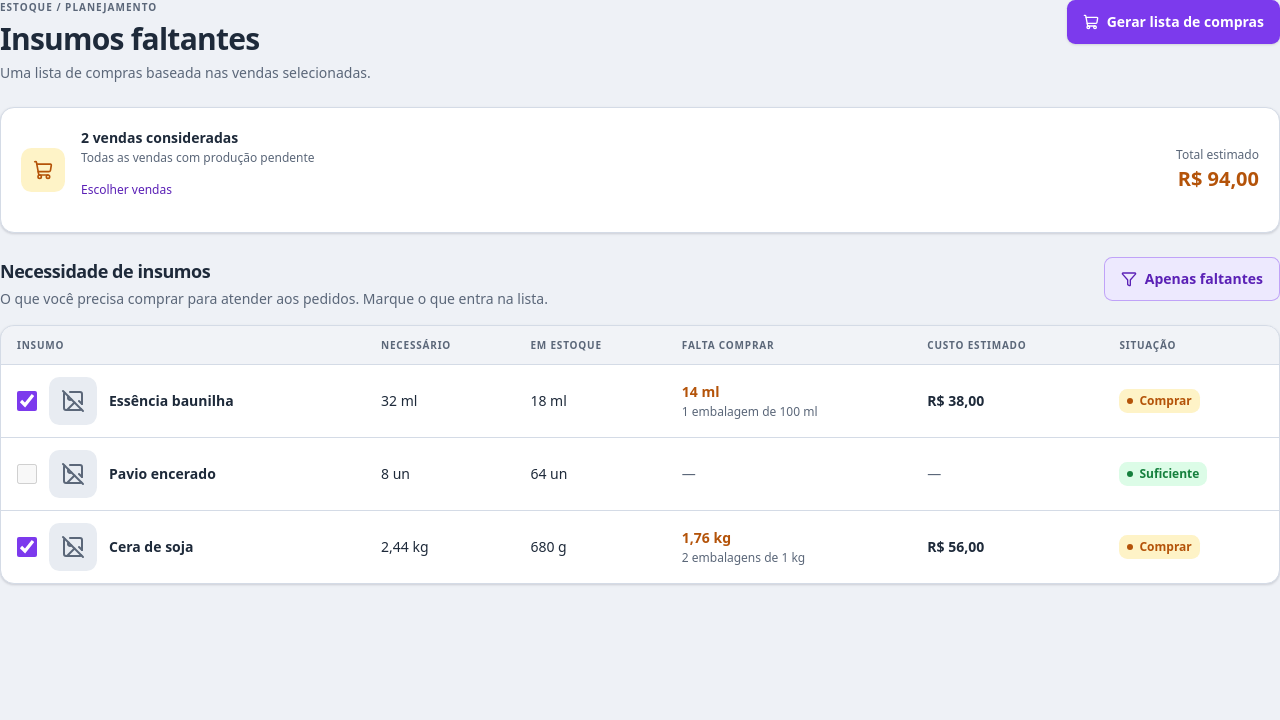
Test: the sales the list is built from › does not let the person use no sale at all
The width and height of the screenshot is (1280, 720).
Check: the table named "Necessidade de insumos" is shown, box [1,326,1279,583]
Click the button "Escolher vendas" at (126, 190), box [69,168,184,212]
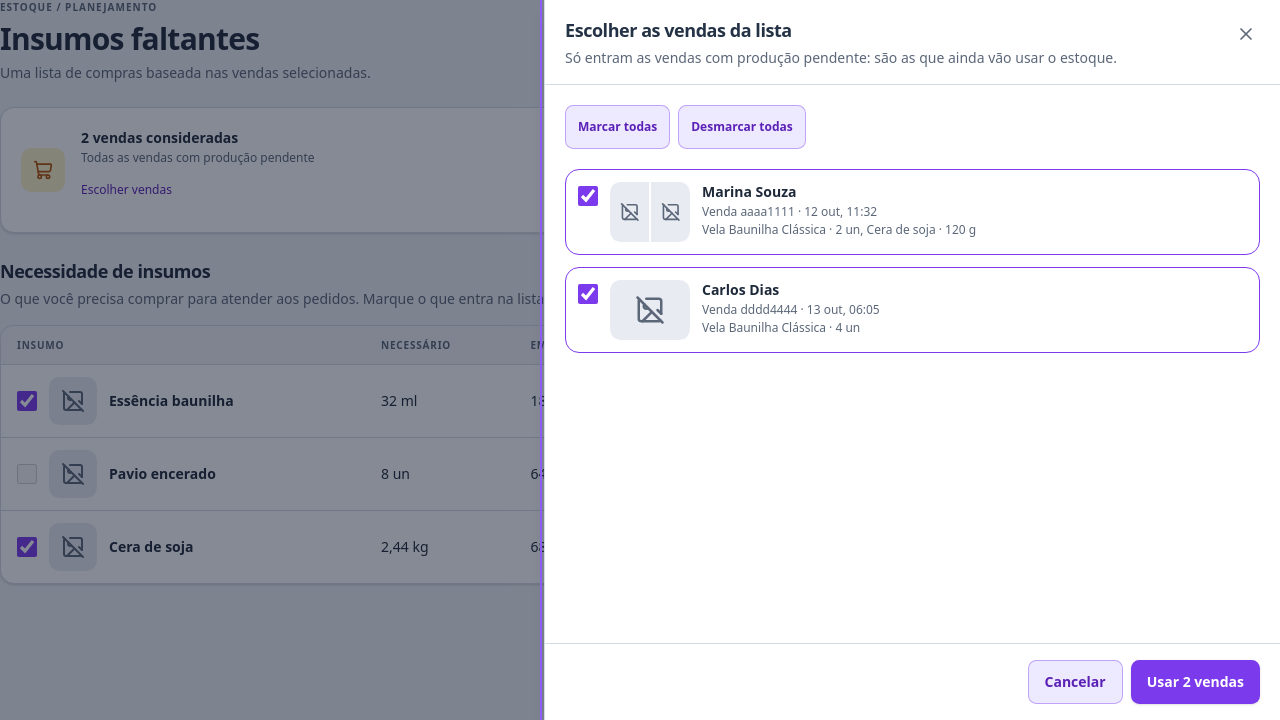
Click the button "Desmarcar todas" at (742, 127), box [678,105,806,149]
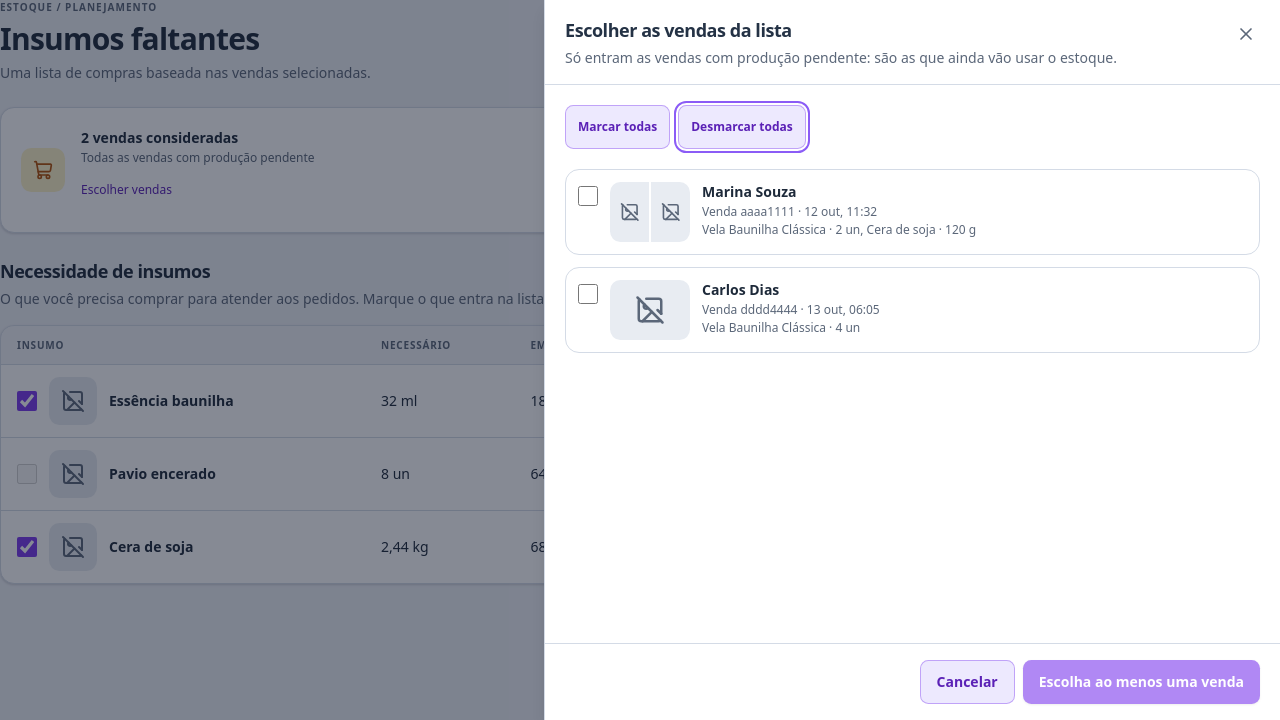
Check: the button "Escolha ao menos uma venda" is disabled, box [1023,660,1260,704]
